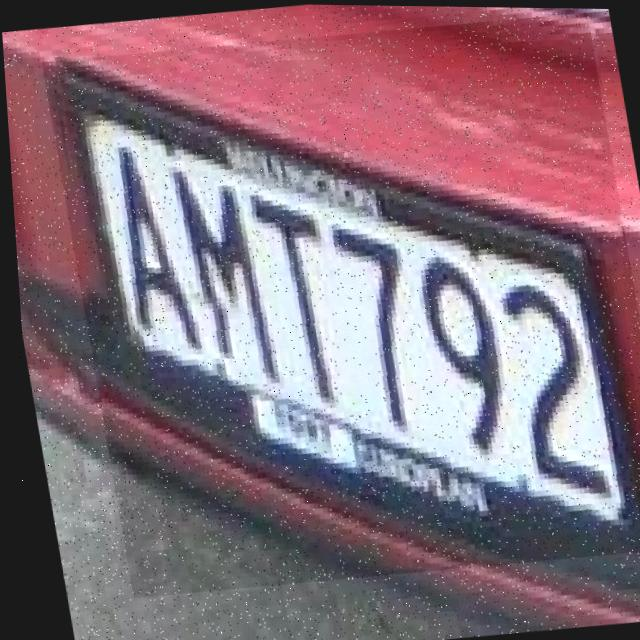LicensePlate: (37, 4, 640, 604)
